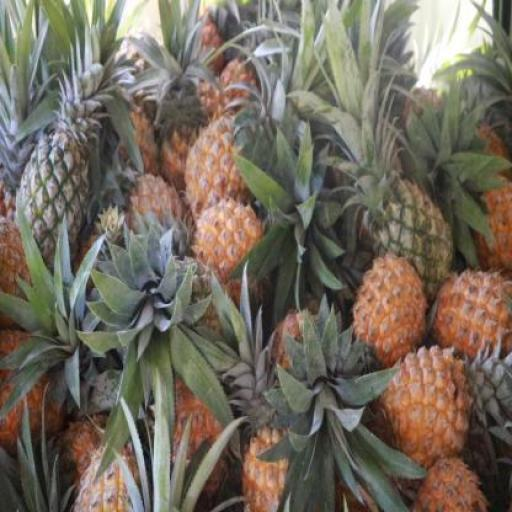Pineapple - v8 v1: (382, 346, 468, 468), (354, 253, 431, 367), (181, 124, 253, 226), (439, 272, 511, 368), (195, 204, 267, 293)
